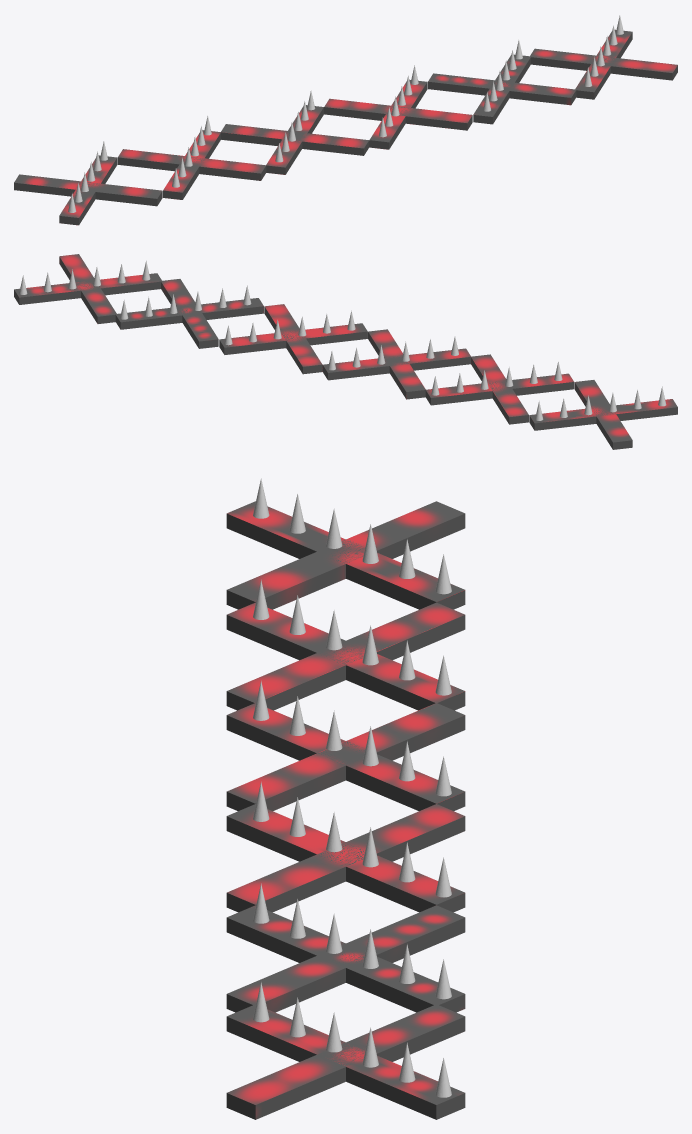
File: dıken.fbx
3 renders of one model, top to bottom at view 1: azimuth 30°, elevation 25°; view 2: azimuth 150°, elevation 25°; view 3: azimuth 270°, elevation 25°, orthographic. The views are drawn at different scales.
Visible parts, largest first — view 1: Cube.006, Cone.004, Cone, Cone.001, Cone.003, Cone.002, Cone.005; view 2: Cube.006, Cone.002, Cone, Cone.005, Cone.003, Cone.004, Cone.001; view 3: Cube.006, Cone, Cone.004, Cone.003, Cone.002, Cone.001, Cone.005.
Boxes of the visible parts, <box> form: Cube.006: <box>14,29,677,225</box>; Cone.004: <box>172,115,211,187</box>; Cone: <box>584,15,623,86</box>; Cone.001: <box>483,40,522,111</box>; Cone.003: <box>275,90,315,162</box>; Cone.002: <box>379,65,418,137</box>; Cone.005: <box>68,141,107,212</box>; Cube.006: <box>14,254,677,449</box>; Cone.002: <box>224,310,355,345</box>; Cone: <box>19,261,150,294</box>; Cone.005: <box>535,386,666,420</box>; Cone.003: <box>328,336,458,370</box>; Cone.004: <box>431,361,562,395</box>; Cone.001: <box>120,285,251,319</box>; Cube.006: <box>226,501,465,1119</box>; Cone: <box>253,982,451,1097</box>; Cone.004: <box>253,579,451,695</box>; Cone.003: <box>253,680,451,796</box>; Cone.002: <box>253,781,451,897</box>; Cone.001: <box>253,883,451,999</box>; Cone.005: <box>253,478,451,594</box>.
Size of the model in its own units: 963 by 38.73 by 161.
